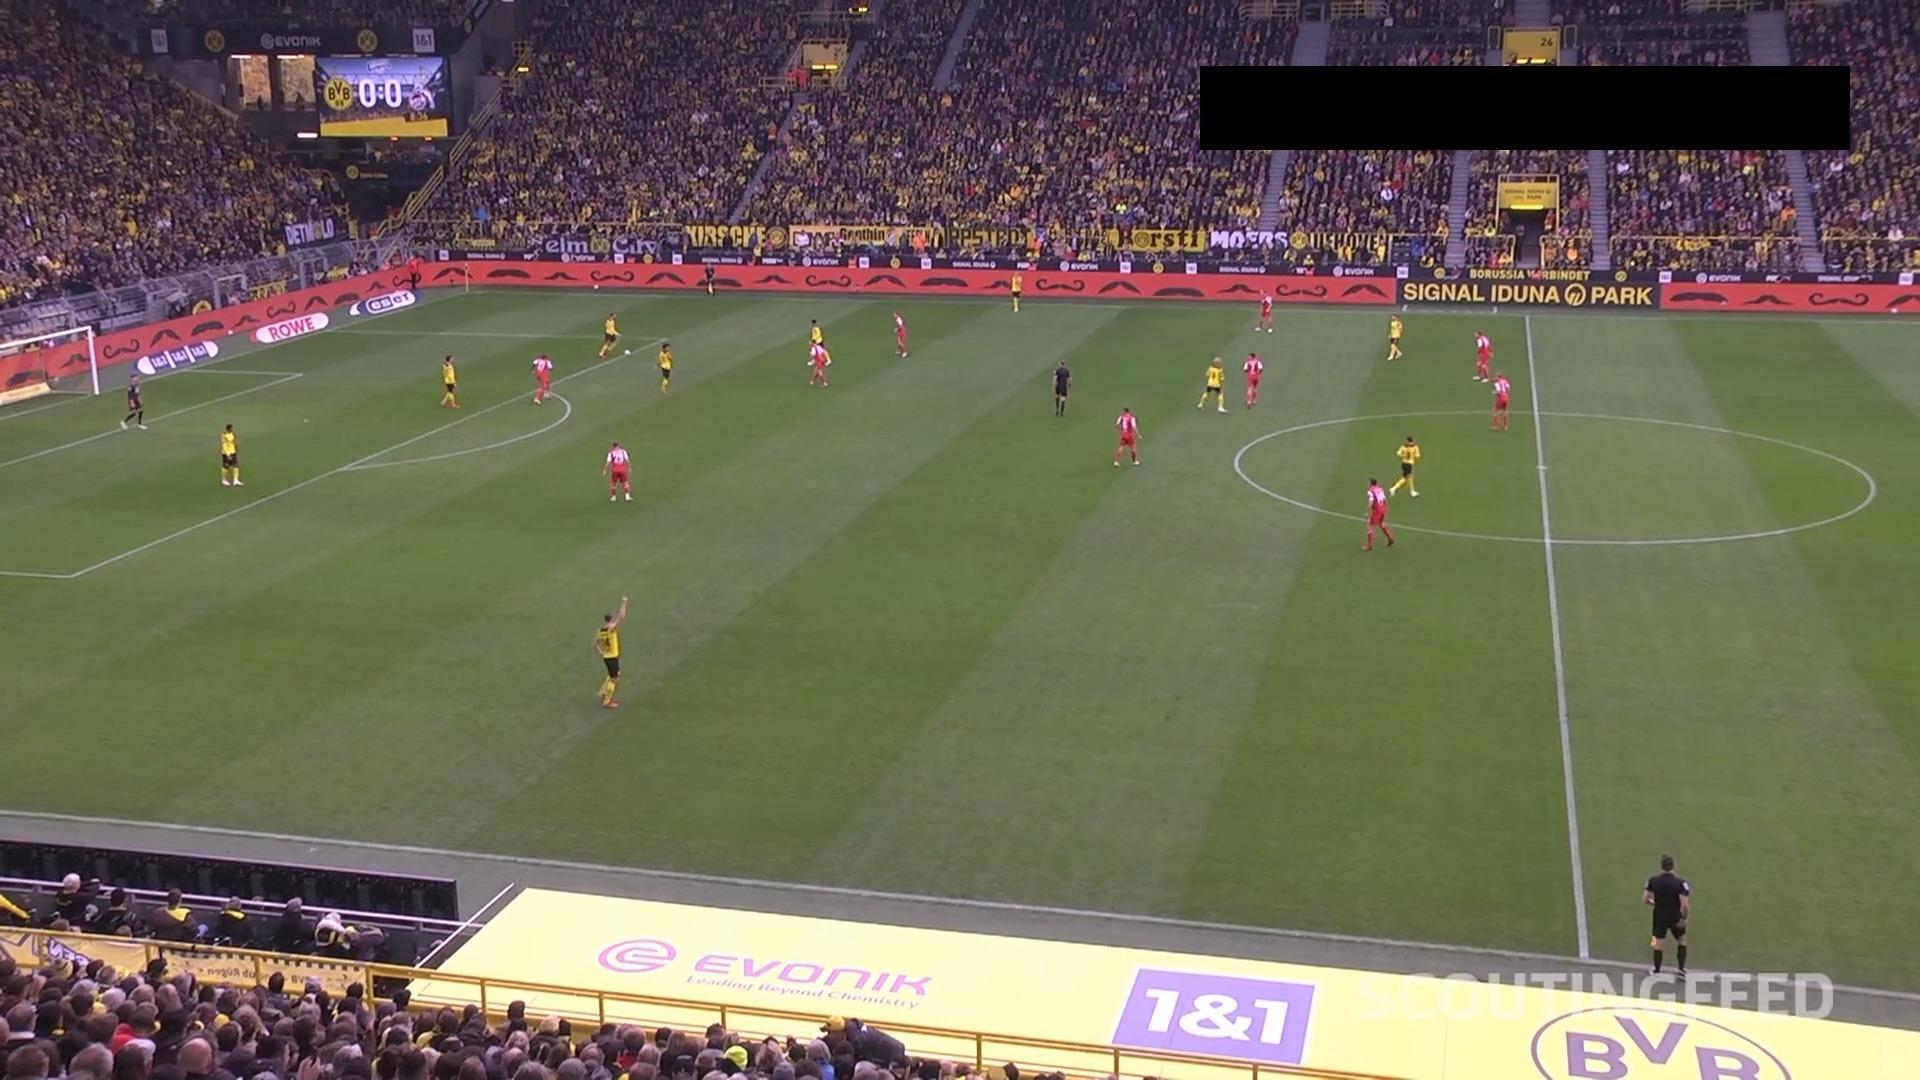player: (592, 595, 628, 708), (1361, 476, 1393, 550), (1387, 434, 1420, 497), (601, 440, 633, 501), (1111, 406, 1141, 466), (1196, 355, 1227, 413), (218, 423, 244, 486), (119, 373, 147, 430), (1489, 372, 1511, 431), (1242, 350, 1263, 409), (806, 338, 831, 387), (530, 353, 553, 403), (1471, 329, 1493, 381), (439, 354, 459, 408), (597, 311, 619, 358), (656, 339, 672, 393), (806, 318, 824, 366), (1254, 290, 1274, 332), (1385, 314, 1403, 360), (891, 309, 908, 357), (1009, 271, 1022, 313)
referee: (1641, 852, 1691, 977), (1051, 358, 1070, 415), (406, 252, 422, 290), (702, 261, 716, 295)
